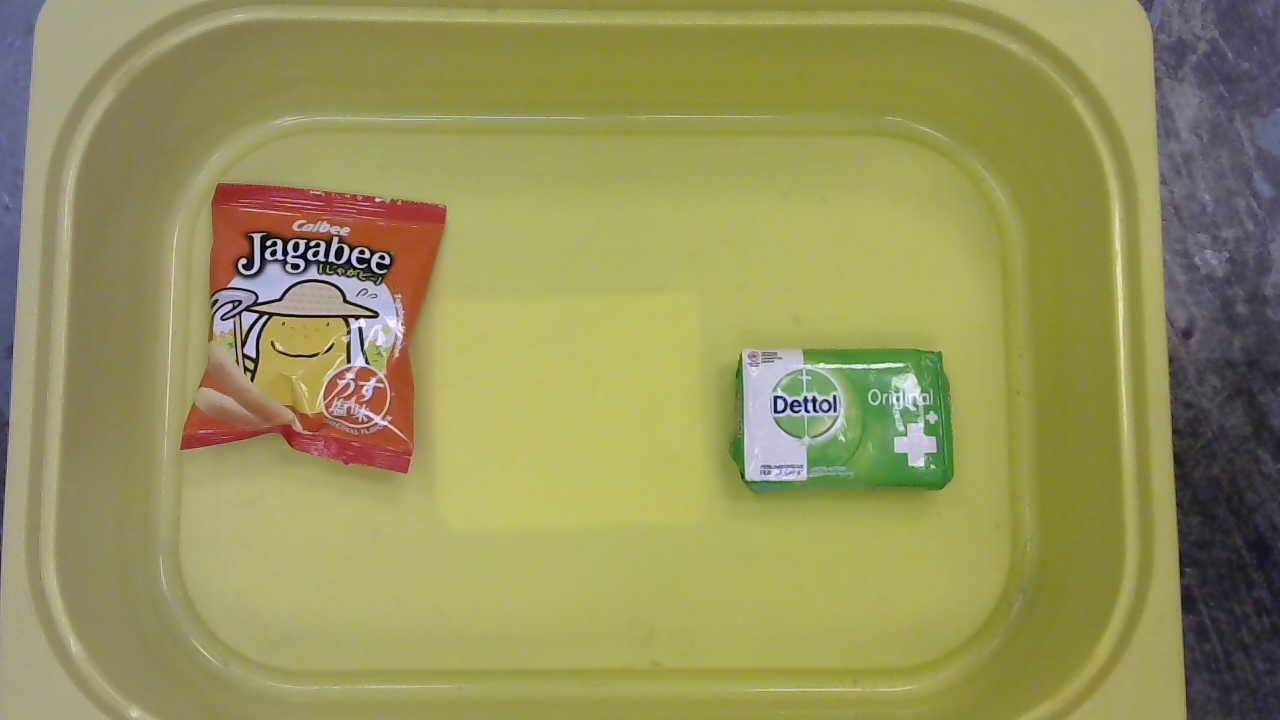Dettol: (729, 341, 960, 500)
JagabeeFarmer: (179, 176, 450, 478)
